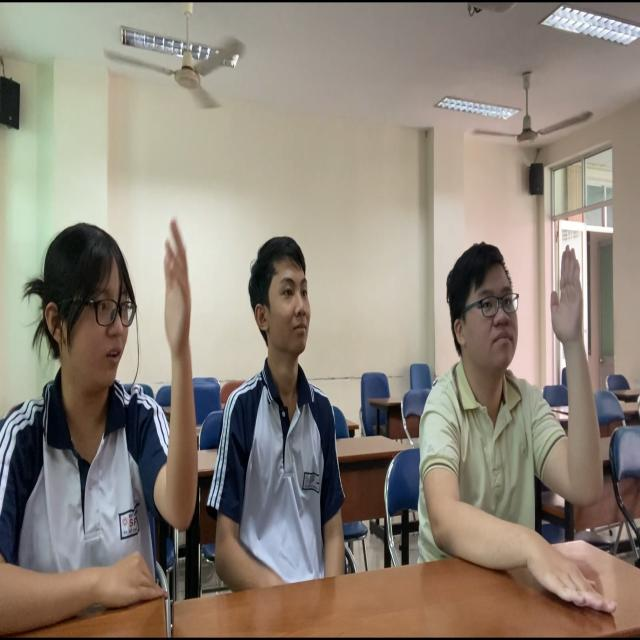raise_hand: (424, 233, 634, 604), (1, 200, 195, 597)
